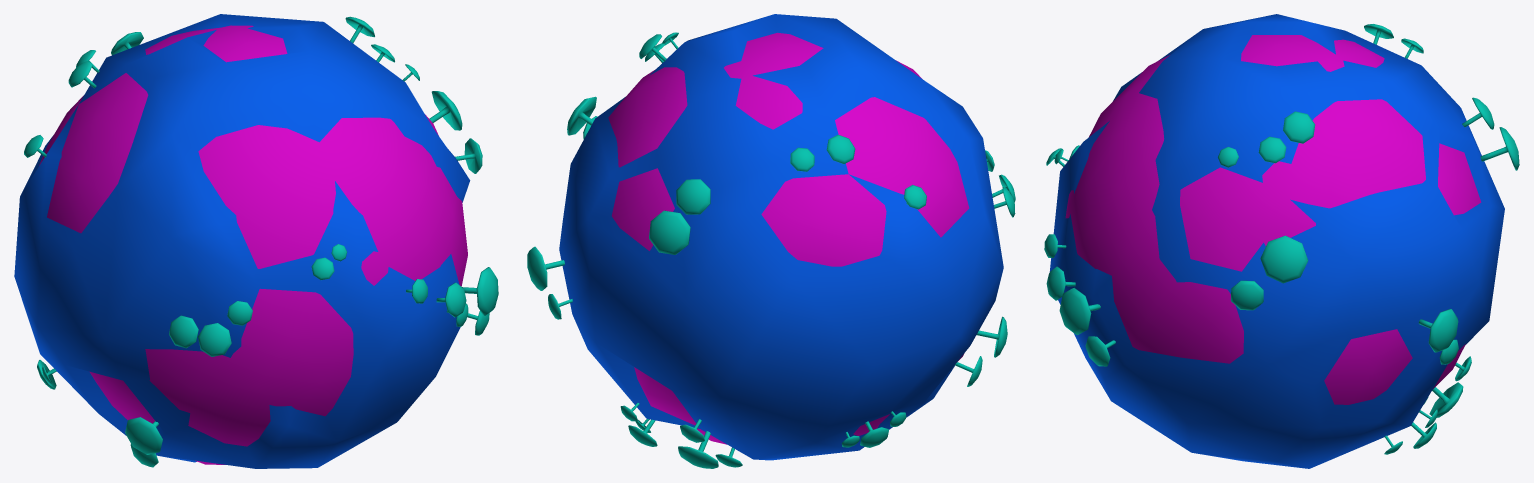
Rendered from mushroomplanet.fbx.
The picture shows the model from 3 angles, left to right: view 1: azimuth 30°, elevation 25°; view 2: azimuth 150°, elevation 25°; view 3: azimuth 270°, elevation 25°; orthographic projection. The views are drawn at different scales.
Visible parts, largest first — view 1: Surface, Liquid, Shrooms; view 2: Surface, Liquid, Shrooms; view 3: Surface, Liquid, Shrooms.
Boxes of the visible parts, x1=… form: Surface: x1=14, y1=14, x2=470, y2=468; Liquid: x1=39, y1=25, x2=467, y2=464; Shrooms: x1=24, y1=16, x2=498, y2=467; Surface: x1=559, y1=14, x2=1003, y2=460; Liquid: x1=608, y1=32, x2=969, y2=444; Shrooms: x1=527, y1=32, x2=1015, y2=468; Surface: x1=1049, y1=14, x2=1504, y2=468; Liquid: x1=1065, y1=35, x2=1481, y2=404; Shrooms: x1=1044, y1=24, x2=1519, y2=454.
Size of the model in its own units: 4.78 by 4.53 by 4.88.
